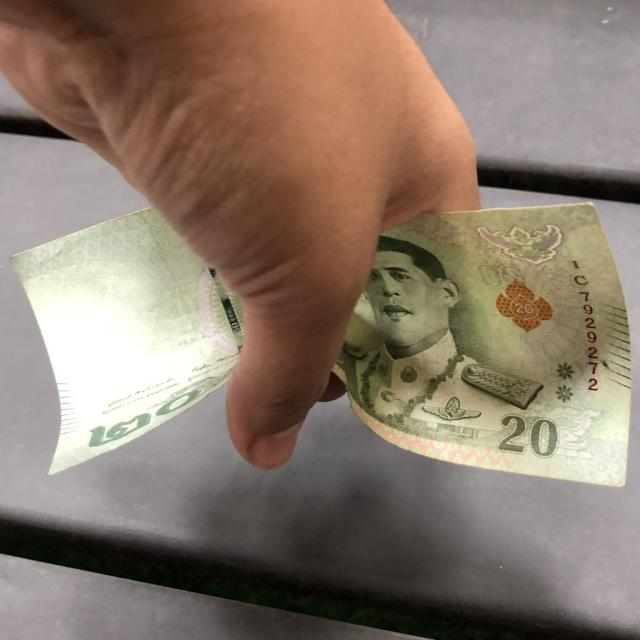THAI20: (334, 204, 631, 486), (14, 210, 242, 474)
